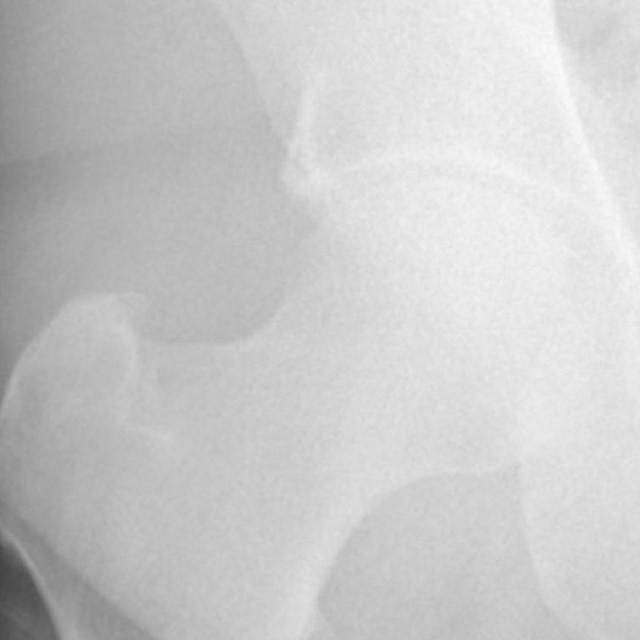Fitted_femural_head: (328, 174, 432, 328)
